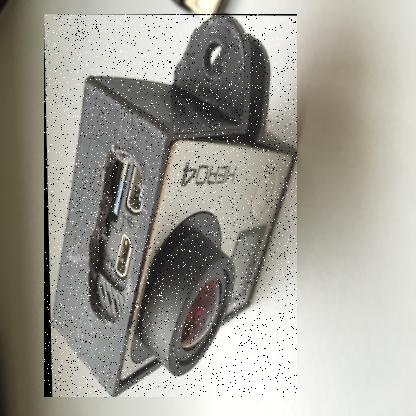Camera: (45, 15, 299, 399)
